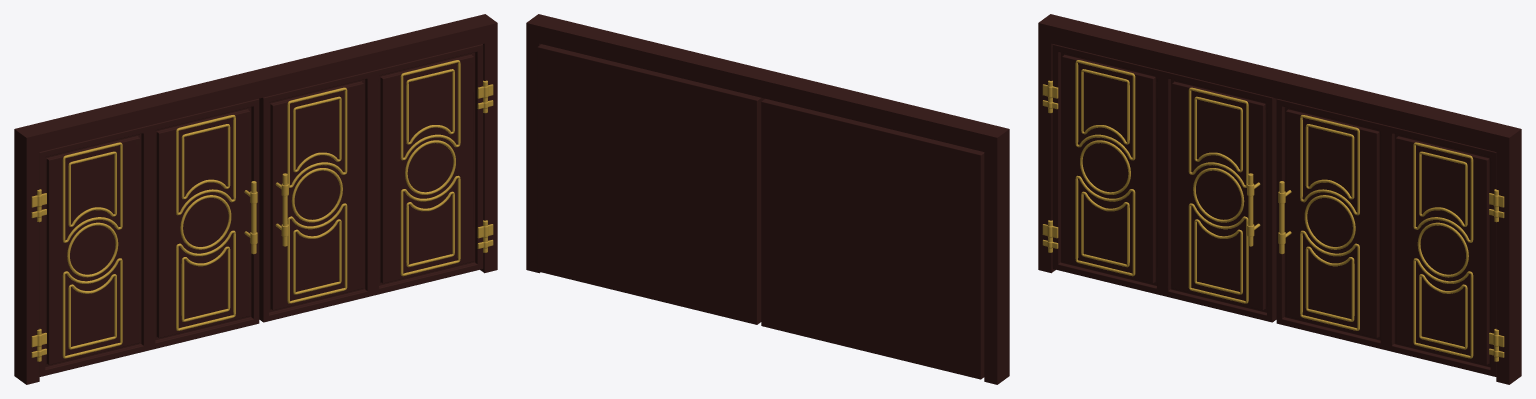
Rendered from The Door.fbx.
The picture shows the model from 3 angles, left to right: view 1: azimuth 30°, elevation 25°; view 2: azimuth 150°, elevation 25°; view 3: azimuth 330°, elevation 25°; orthographic projection.
Parts seen in each view (by area): view 1: Right Door, Left Door, Doorframe; view 2: Right Door, Left Door, Doorframe; view 3: Left Door, Right Door, Doorframe.
Part boxes in pixels (<box>): Right Door: <box>259,44,483,322</box>; Left Door: <box>39,98,259,376</box>; Doorframe: <box>14,14,497,384</box>; Right Door: <box>537,44,764,324</box>; Left Door: <box>761,98,984,379</box>; Doorframe: <box>526,14,1009,384</box>; Left Door: <box>1052,44,1276,322</box>; Right Door: <box>1276,98,1496,376</box>; Doorframe: <box>1038,14,1521,384</box>.
Bounding box in the file's own units: 681 × 341 × 60.82.
Materials: 1 (1 with a texture image).
